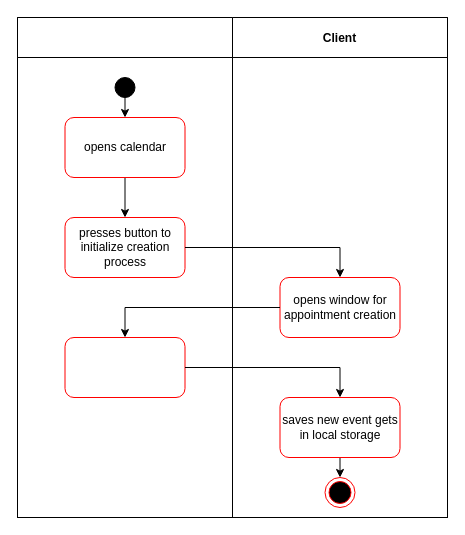
This 465x535 diagram has some shape labels left out. Here are the shapes that lost their labels. From the top down, the box of each, then its label:
(16, 16, 232, 518): User
(64, 336, 185, 398): enter in parameters like time occupation used to create event object
